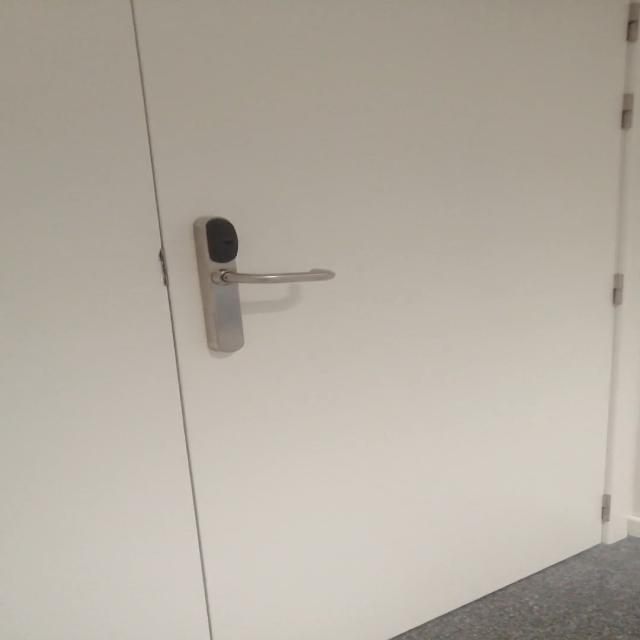door_handle: (193, 265, 356, 294)
